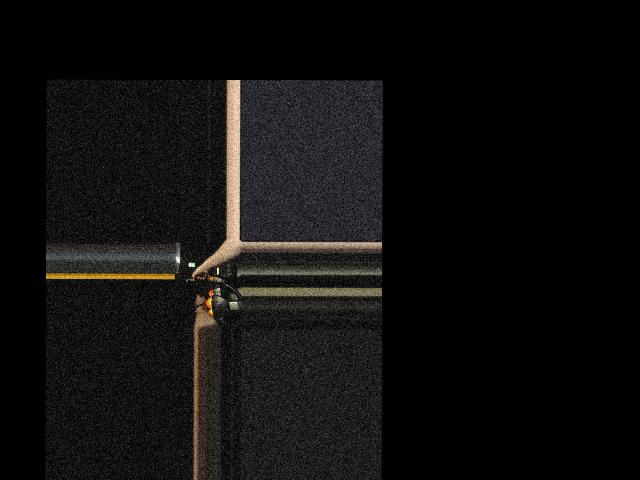beer: (192, 271, 224, 284)
